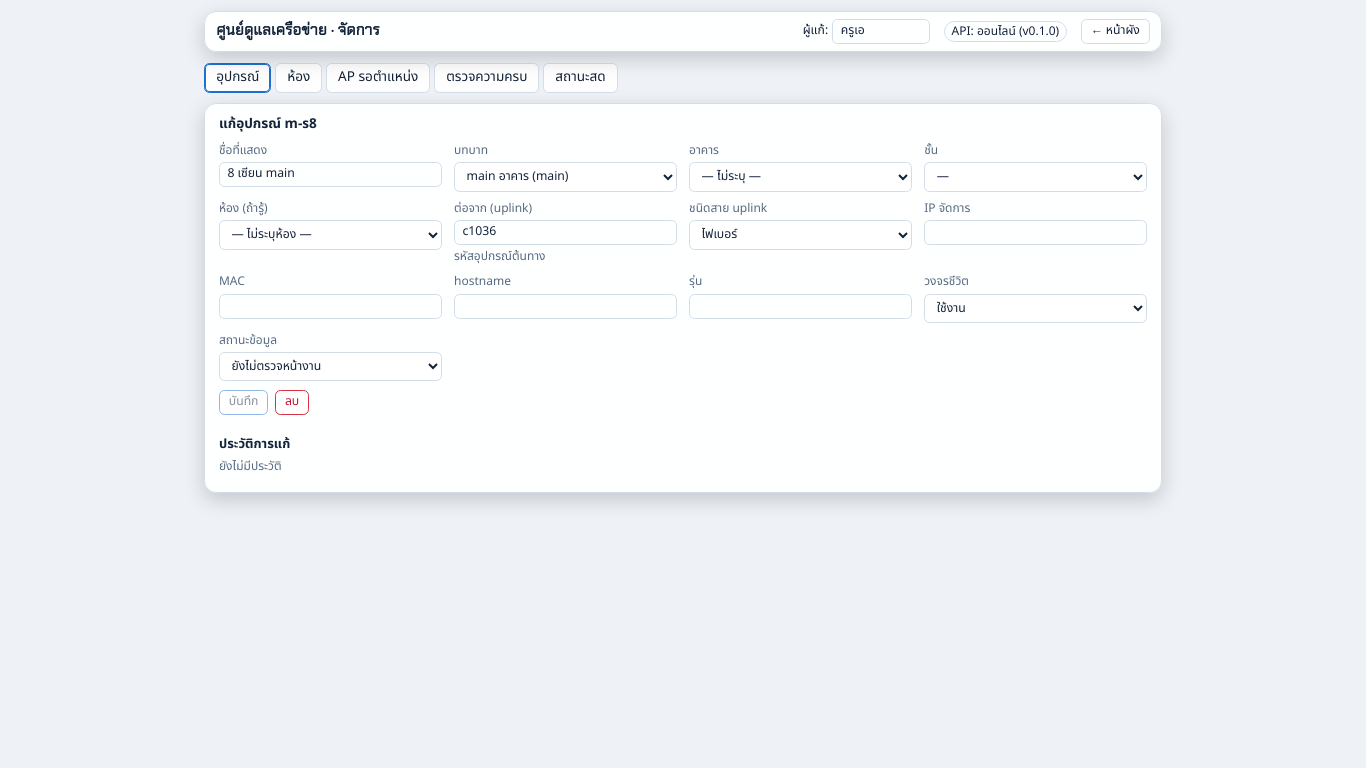
Test case: back office (M21) › sends only the changed fields with the loaded row_version and the editor name
Step 1. Replace the text in the field showing "8 เซียน main" with "8 เซียน main (SG3428)" → point(330, 175), box [219, 162, 442, 187]
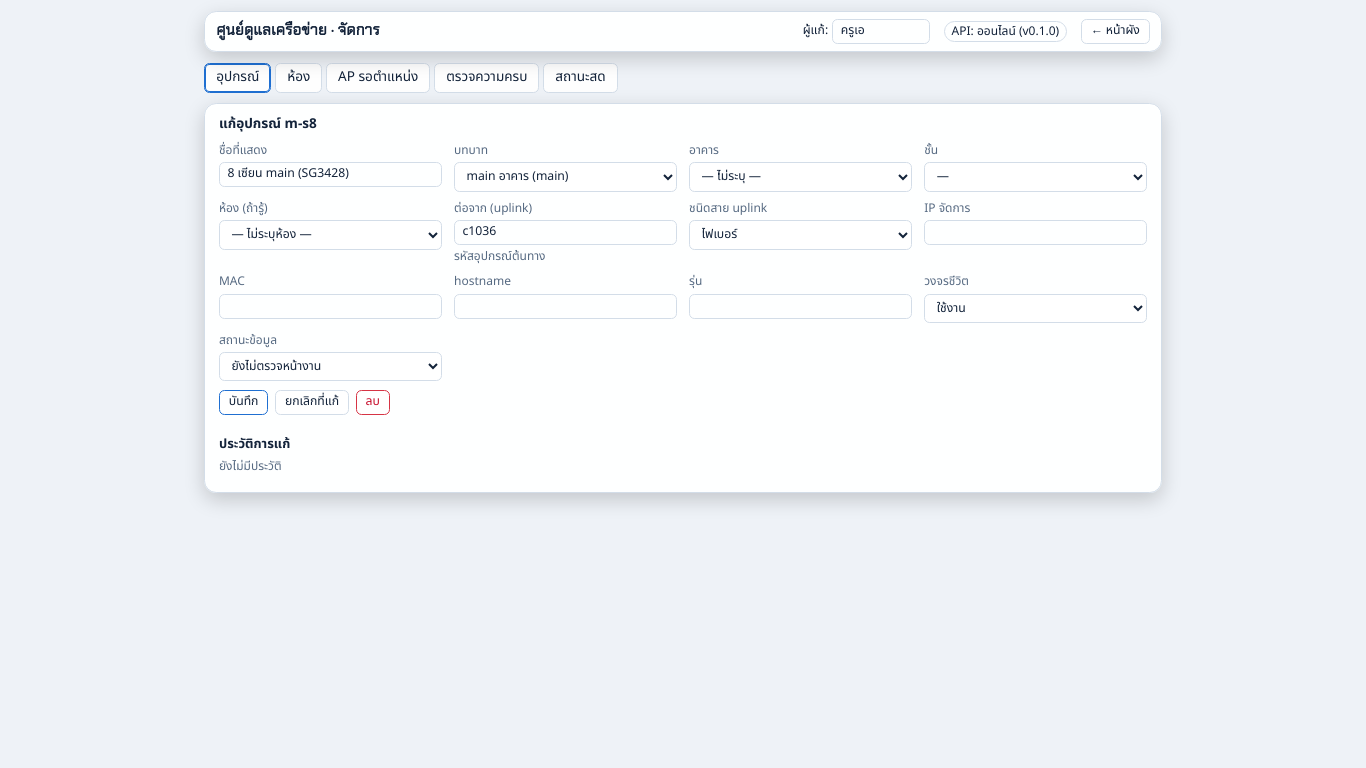
Step 2. Click the button "บันทึก" → point(244, 402), box [219, 390, 268, 415]
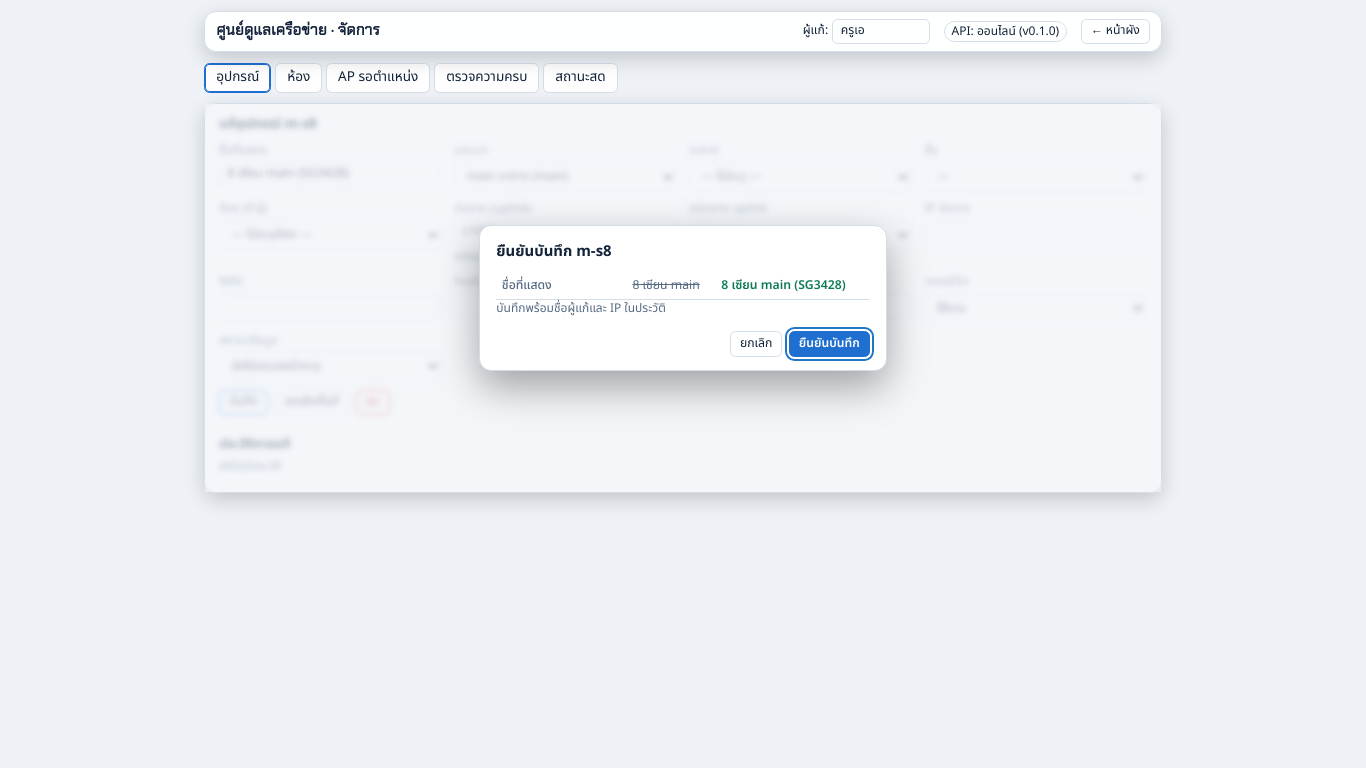
Check: the dialog shows "8 เซียน main (SG3428)", box [721, 276, 846, 295]
Step 3. Click the button "ยืนยันบันทึก" → point(829, 344), box [789, 331, 870, 357]
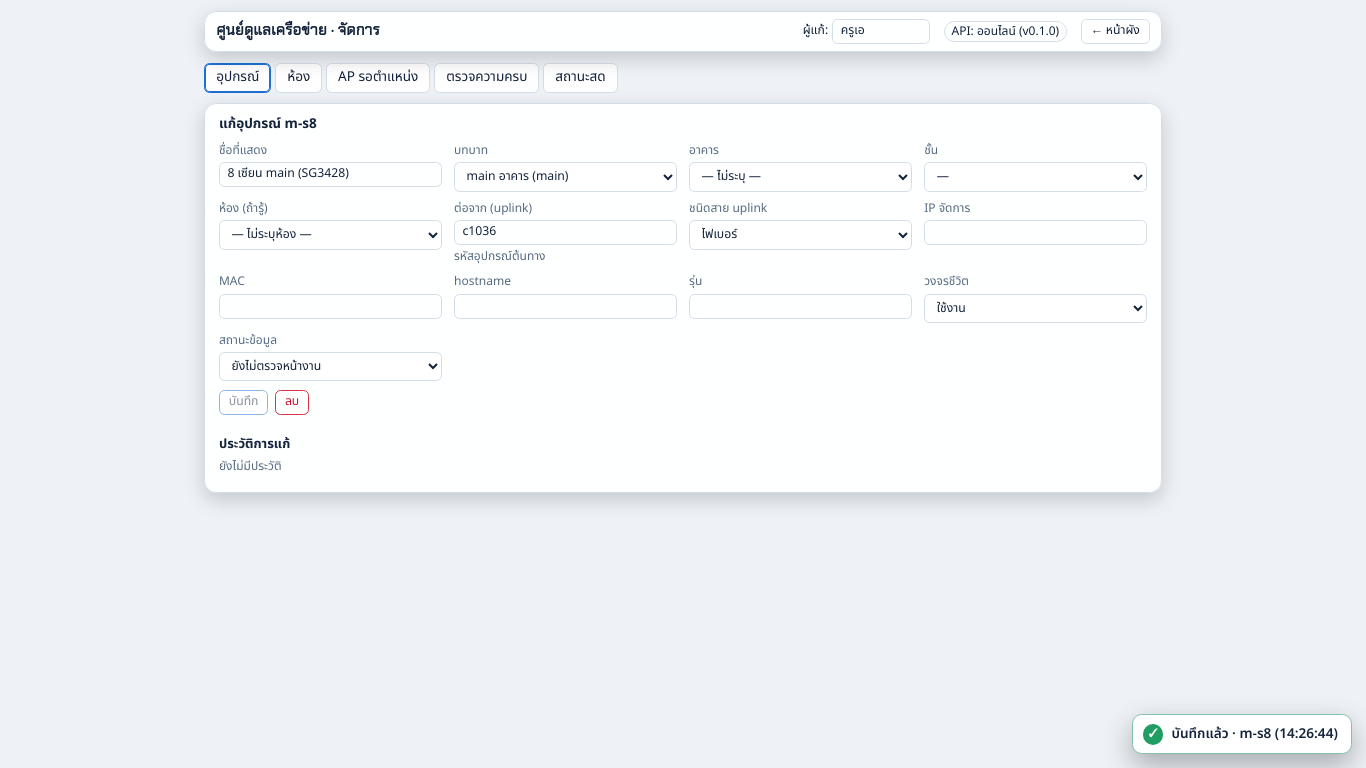
Check: the text "✓ บันทึกแล้ว · m-s8 (14:26:44)" is shown, box [1132, 714, 1352, 754]
